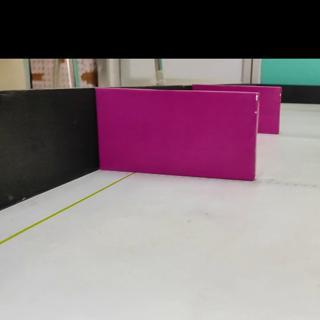xparking: (100, 95, 254, 180), (260, 87, 278, 131)
